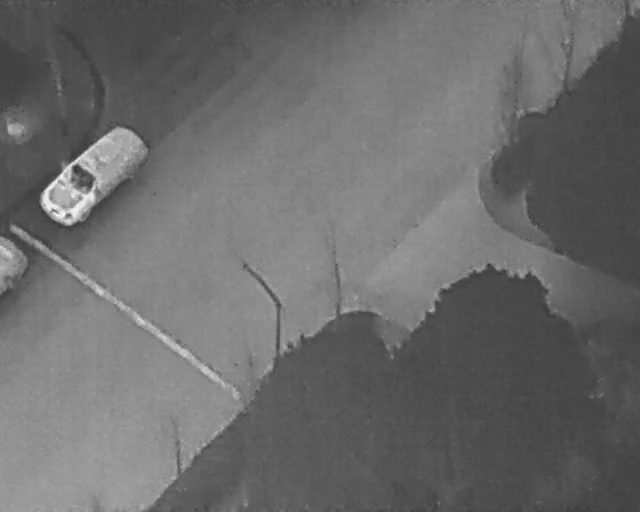Car: (30, 115, 153, 235)
